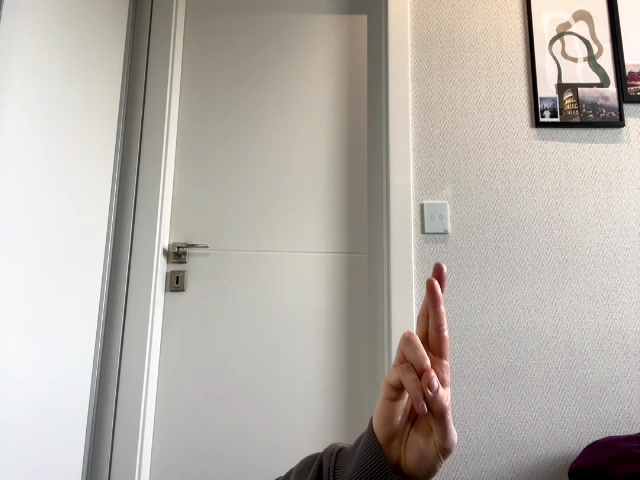R: (383, 263, 458, 462)
